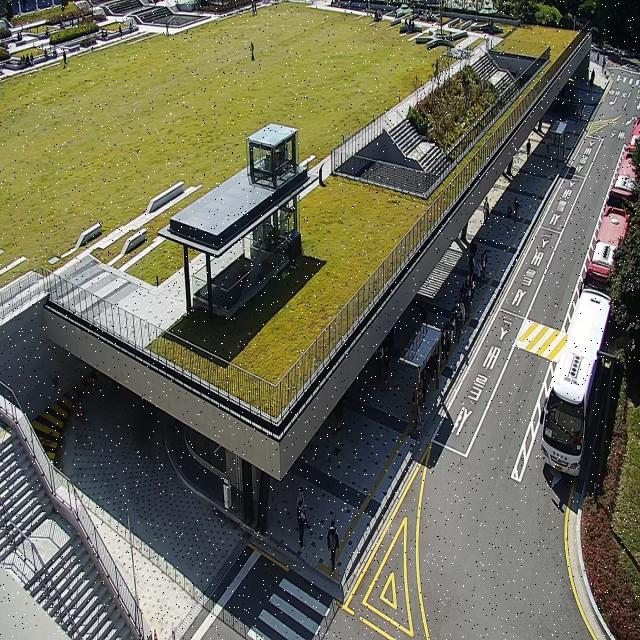queue: (416, 249, 488, 428)
